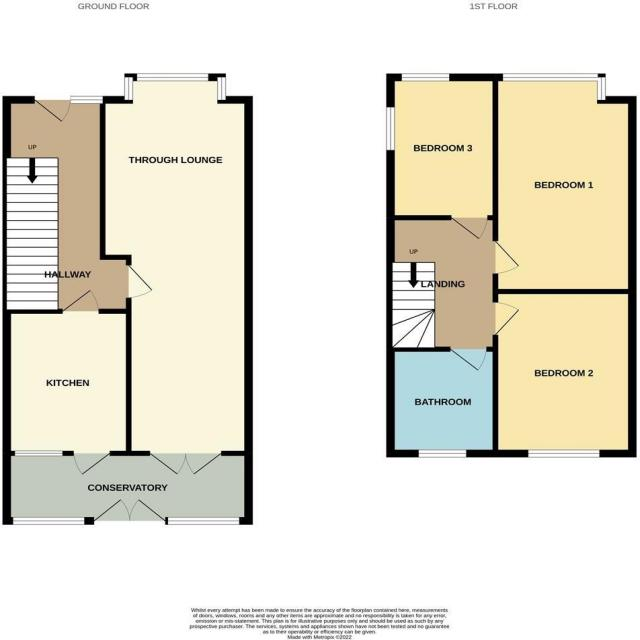DOOR: (447, 214, 491, 240), (492, 300, 519, 340), (128, 262, 153, 304), (33, 102, 73, 124), (448, 348, 488, 370), (63, 291, 101, 314), (494, 241, 517, 278), (72, 453, 111, 473)
ROOM: (96, 72, 255, 455), (490, 73, 636, 301), (491, 290, 636, 458), (2, 310, 132, 459), (384, 73, 498, 240), (386, 348, 498, 458)
WINDOW: (123, 71, 228, 103), (499, 71, 608, 101), (525, 448, 602, 458), (12, 517, 88, 526), (418, 446, 470, 458), (165, 517, 242, 525), (385, 106, 396, 154), (400, 72, 454, 81), (10, 450, 64, 458), (69, 94, 103, 105)
